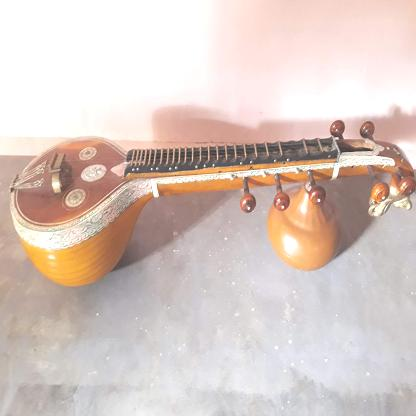Veena: (7, 109, 416, 245)
